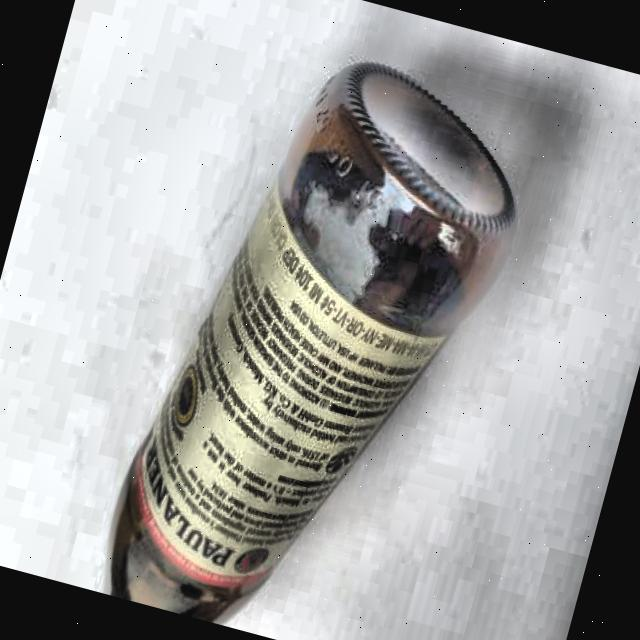glass: (95, 25, 549, 640)
